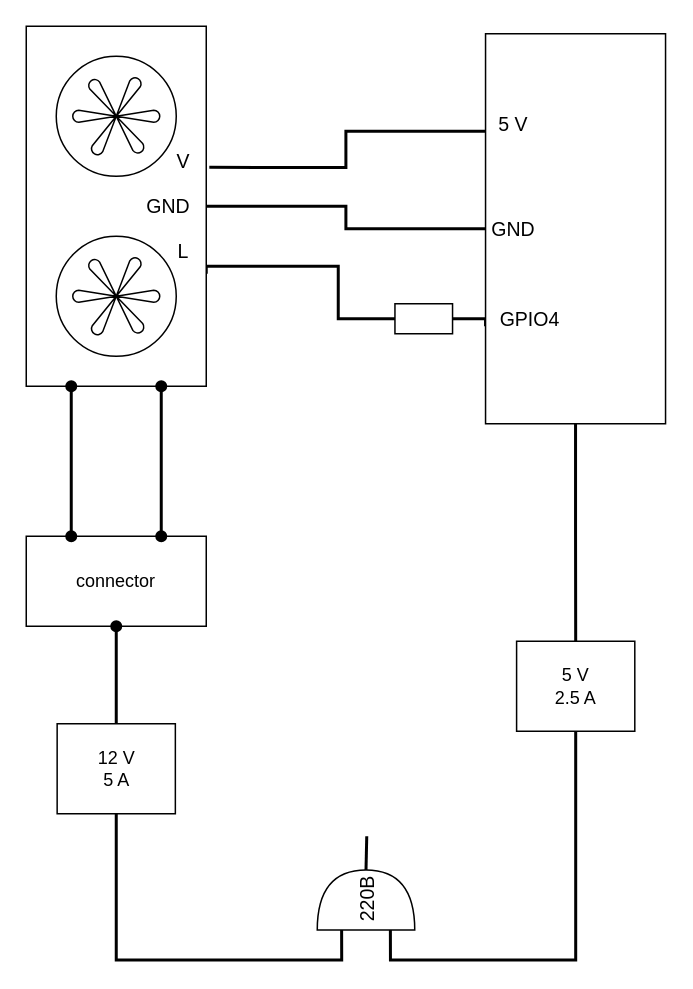
The diagram is 693 pixels wide and 989 high, and some of its shapes have lost their labels. Each missing label, with the box of its shape:
R1: (377, 302, 469, 334)
RPI: (484, 32, 666, 424)
